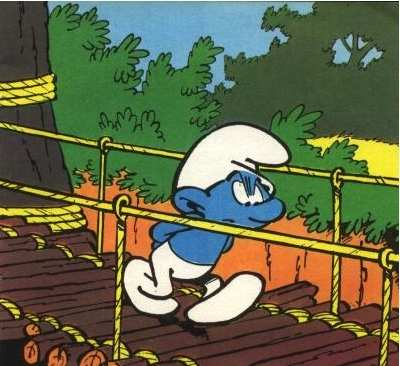smurf: (121, 120, 290, 326)
